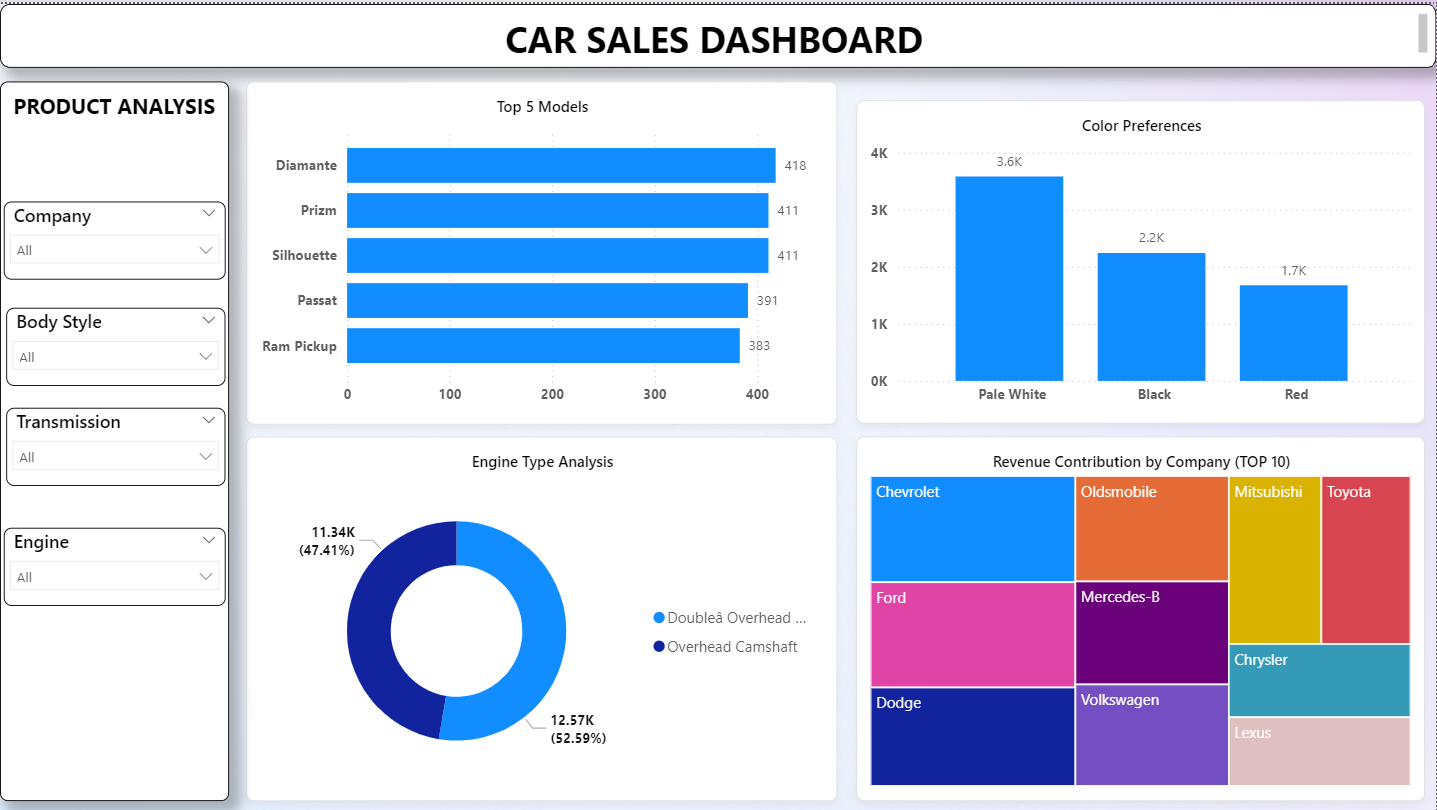

What the dashboard file says about the page in this screenshot:
{"tool":"powerbi","page":{"name":"Product Analysis","canvas":[1280,720],"ordinal":2},"visuals":[{"type":"textbox","box":[0,0,1280,56.7],"z":0},{"type":"clusteredBarChart","title":"Top 5 Models","fields":{"Category":["Car_sales.Model"],"Y":["CountNonNull(Car_sales.Car_id)"]},"box":[219.6,68.8,526,305.2],"z":2000},{"type":"donutChart","title":"Engine Type Analysis","fields":{"Y":["CountNonNull(Car_sales.Car_id)"],"Category":["Car_sales.Engine"]},"box":[219.6,384.9,526,324.5],"z":3000},{"type":"treemap","title":"Revenue Contribution by Company (TOP 10)","fields":{"Group":["Car_sales.Company"],"Values":["Car_sales.Total Revenue"]},"box":[762.5,384.9,506.7,324.5],"z":4000},{"type":"columnChart","title":"Color Preferences","fields":{"Category":["Car_sales.Color"],"Y":["CountNonNull(Car_sales.Car_id)"]},"box":[762.5,85.7,506.7,288.3],"z":5000},{"type":"textbox","box":[0,68.8,203.9,640.6],"z":6000},{"type":"slicer","title":"Revenue by Region","fields":{"Values":["Car_sales.Transmission"]},"box":[6,359.5,195.4,70],"z":6001},{"type":"slicer","title":"Revenue by Region","fields":{"Values":["Car_sales.Company"]},"box":[3.6,176.1,197.9,70],"z":6002},{"type":"slicer","title":"Revenue by Region","fields":{"Values":["Car_sales.Engine"]},"box":[3.6,466.9,197.9,70],"z":6003},{"type":"slicer","title":"Revenue by Region","fields":{"Values":["Car_sales.Body Style"]},"box":[6,270.2,195.4,70],"z":6004}]}

Visuals, with their boxes in screenshot pixels (x1, y1, x2, y2), scaled from the page's 1280x720 canvas onto the 1437x810 screenshot:
textbox: [0, 0, 1436, 64]
"Top 5 Models" clusteredBarChart: [247, 77, 837, 421]
"Engine Type Analysis" donutChart: [247, 433, 837, 798]
"Revenue Contribution by Company (TOP 10)" treemap: [856, 433, 1425, 798]
"Color Preferences" columnChart: [856, 96, 1425, 421]
textbox: [0, 77, 229, 798]
"Revenue by Region" slicer: [7, 404, 226, 483]
"Revenue by Region" slicer: [4, 198, 226, 277]
"Revenue by Region" slicer: [4, 525, 226, 604]
"Revenue by Region" slicer: [7, 304, 226, 383]
